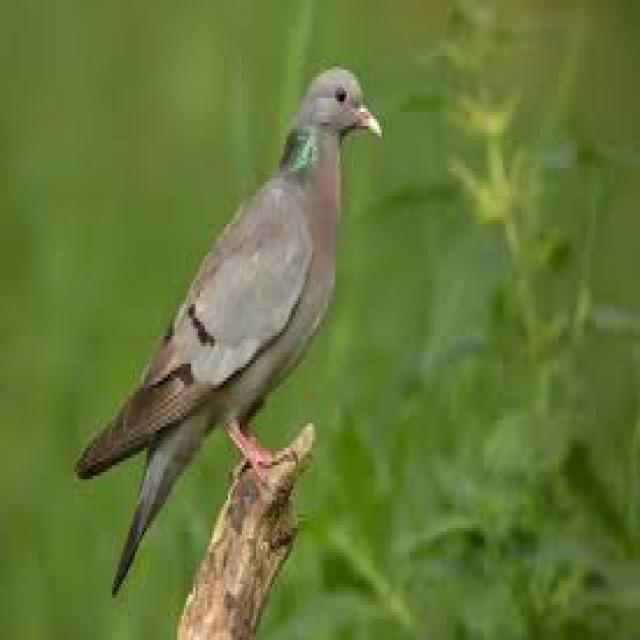pigeon: (74, 55, 394, 562)
